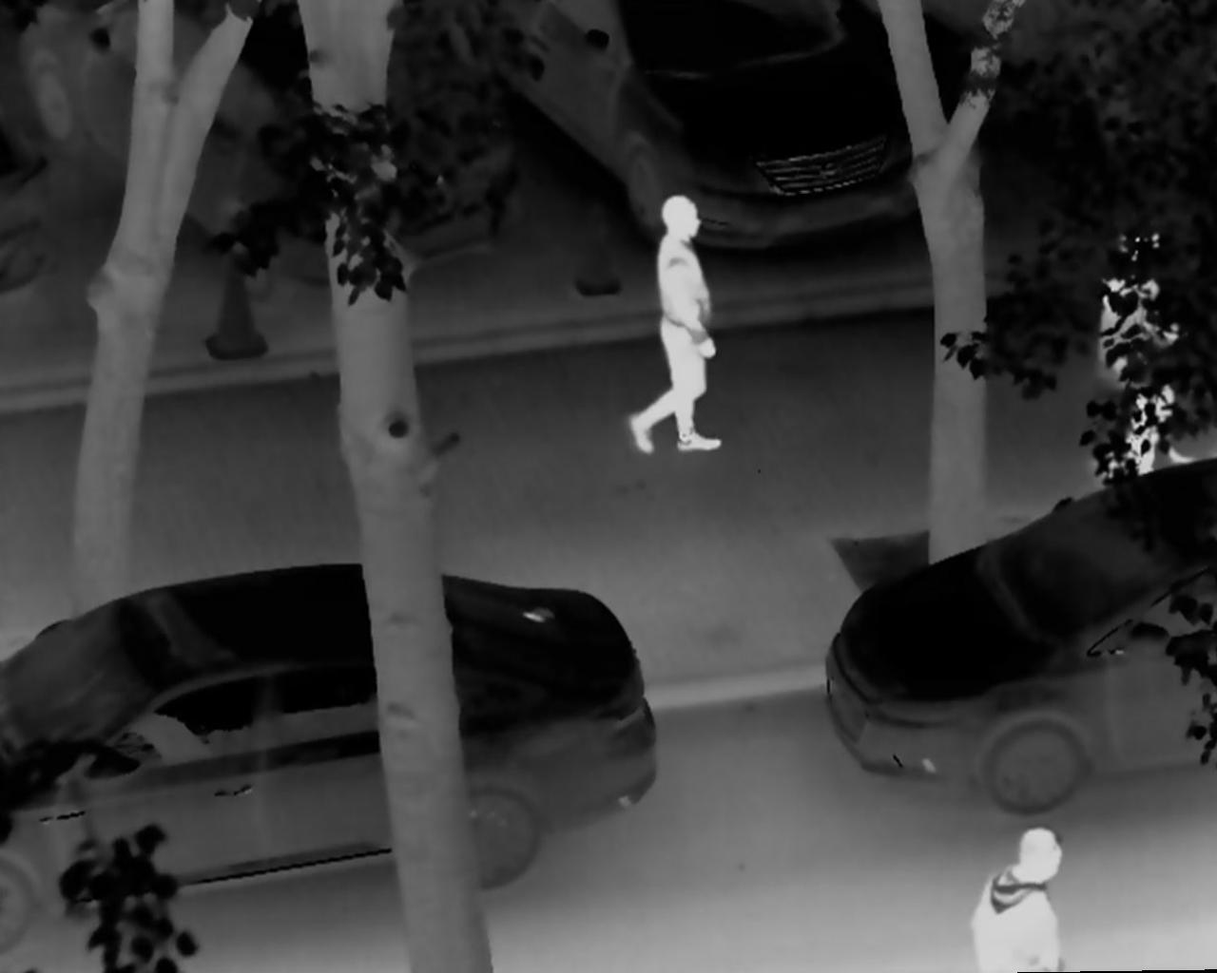person: (1079, 203, 1208, 506), (622, 194, 737, 461), (964, 817, 1082, 973)
